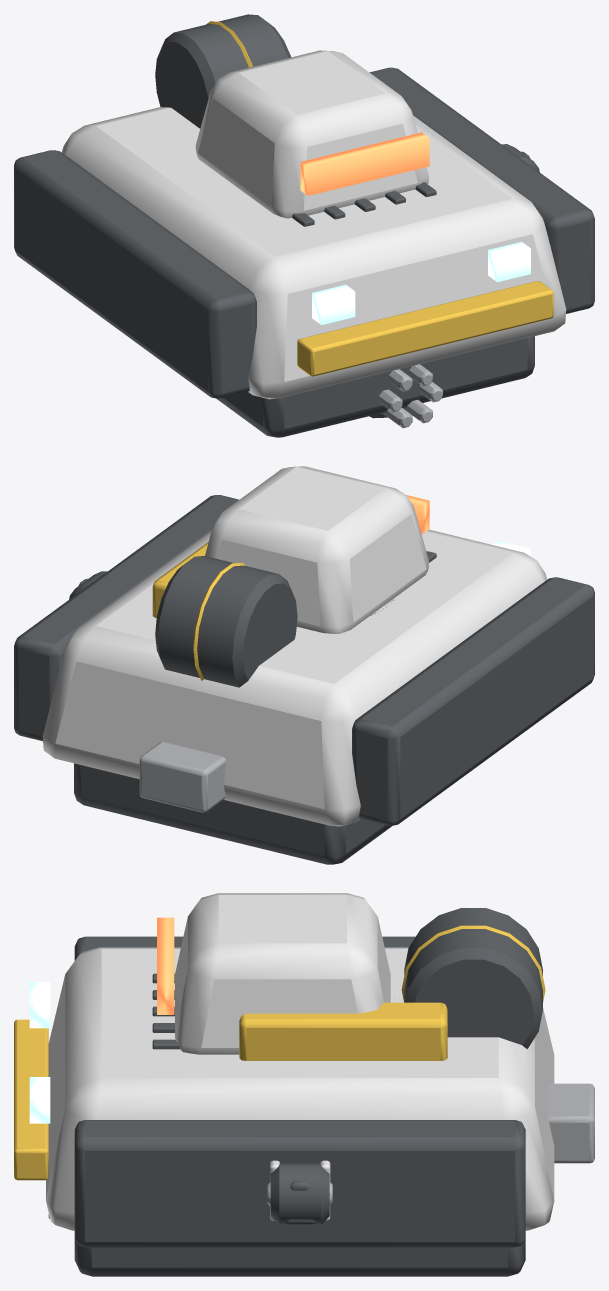
The model's file is auto.glb.
3 views of the same model, one above another, from view 1: azimuth 30°, elevation 25°; view 2: azimuth 150°, elevation 25°; view 3: azimuth 270°, elevation 25° (orthographic). The views are drawn at different scales.
Parts seen in each view (by area): view 1: Hull, Turret, Barrel; view 2: Hull, Turret; view 3: Hull, Turret, LegUpper.
Boxes of the visible parts, x1,y1,x2,y2 form: Hull: [14, 14, 594, 437]; Turret: [195, 50, 429, 218]; Barrel: [369, 364, 442, 428]; Hull: [14, 495, 594, 864]; Turret: [152, 466, 429, 633]; Hull: [14, 908, 594, 1276]; Turret: [157, 893, 447, 1060]; LegUpper: [267, 1160, 332, 1224].
Size of the model in its own units: 0.6207 by 0.395 by 0.67.
